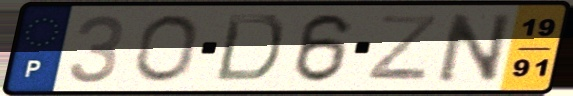3: (67, 12, 127, 85)
6: (287, 11, 357, 86)
D: (211, 12, 287, 85)
N: (435, 10, 515, 85)
O: (132, 12, 201, 85)
Z: (363, 13, 442, 83)
